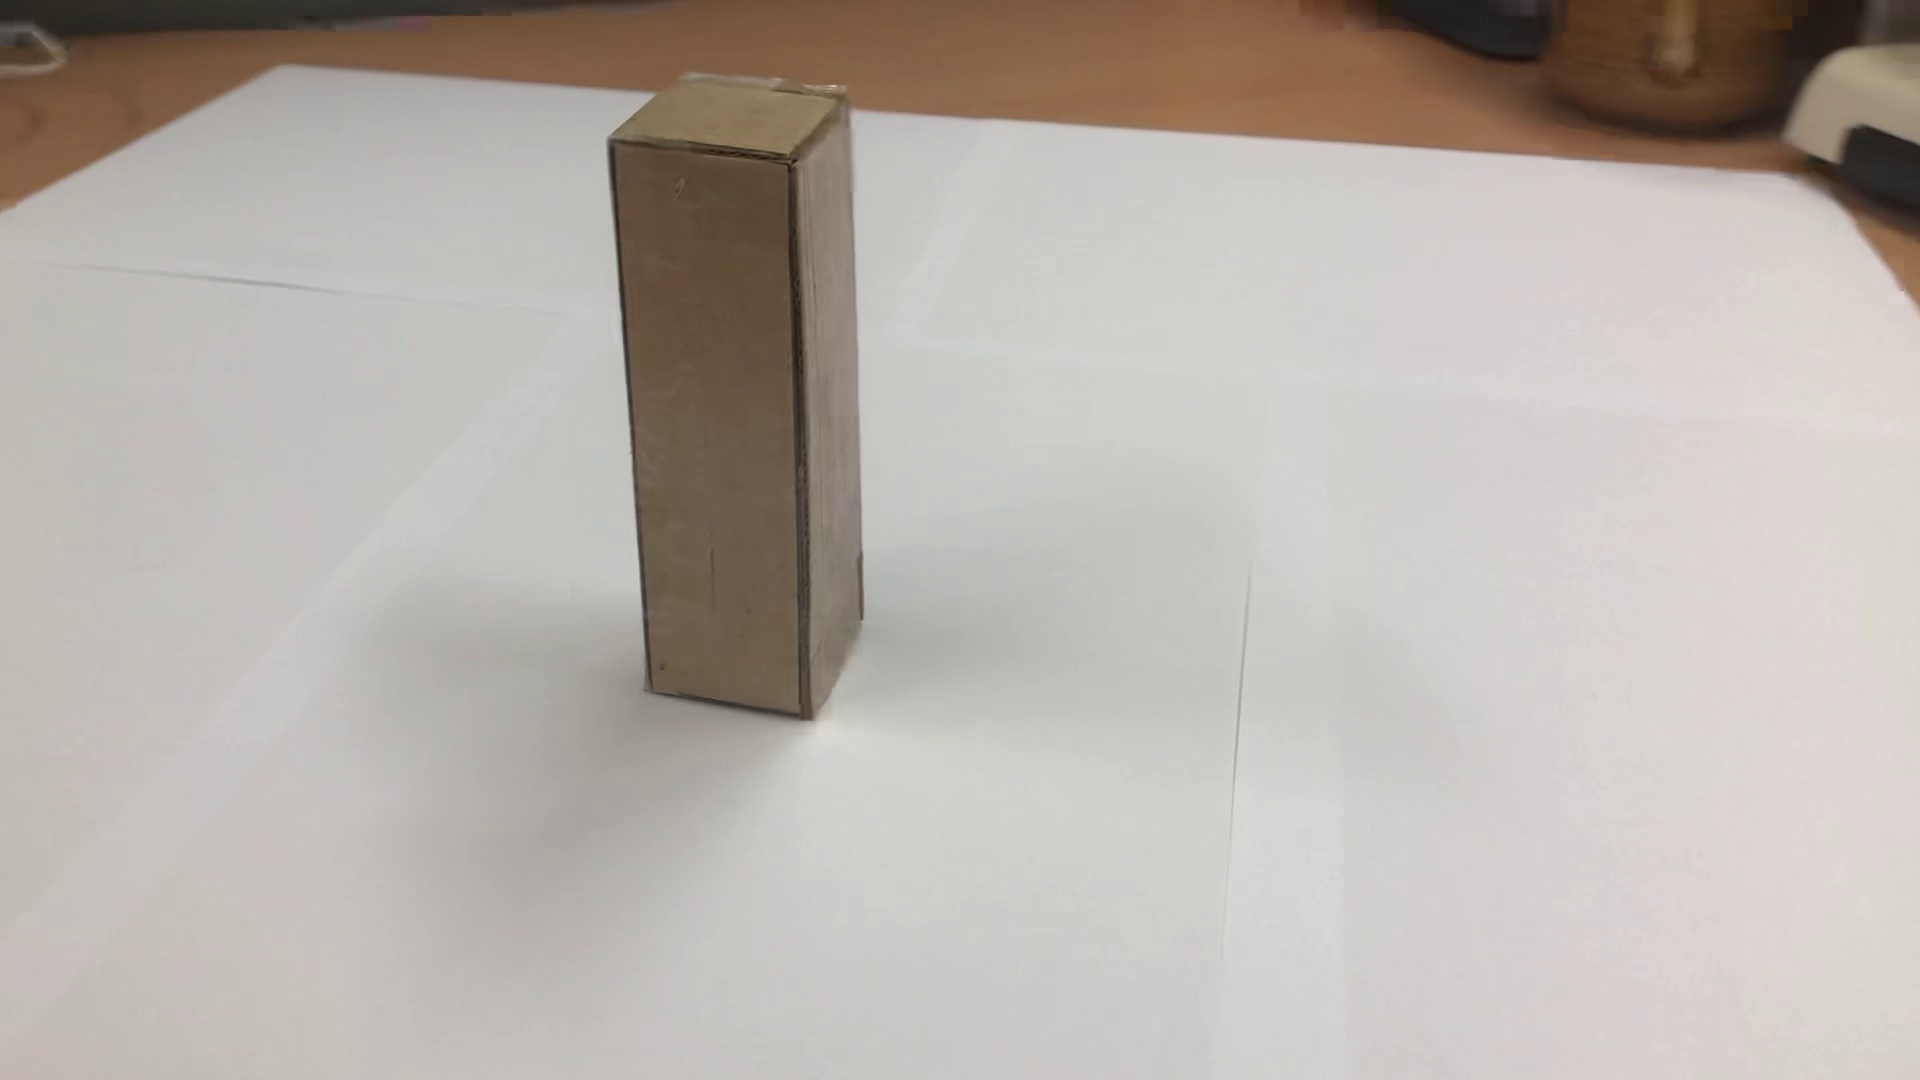box: (597, 36, 893, 735)
